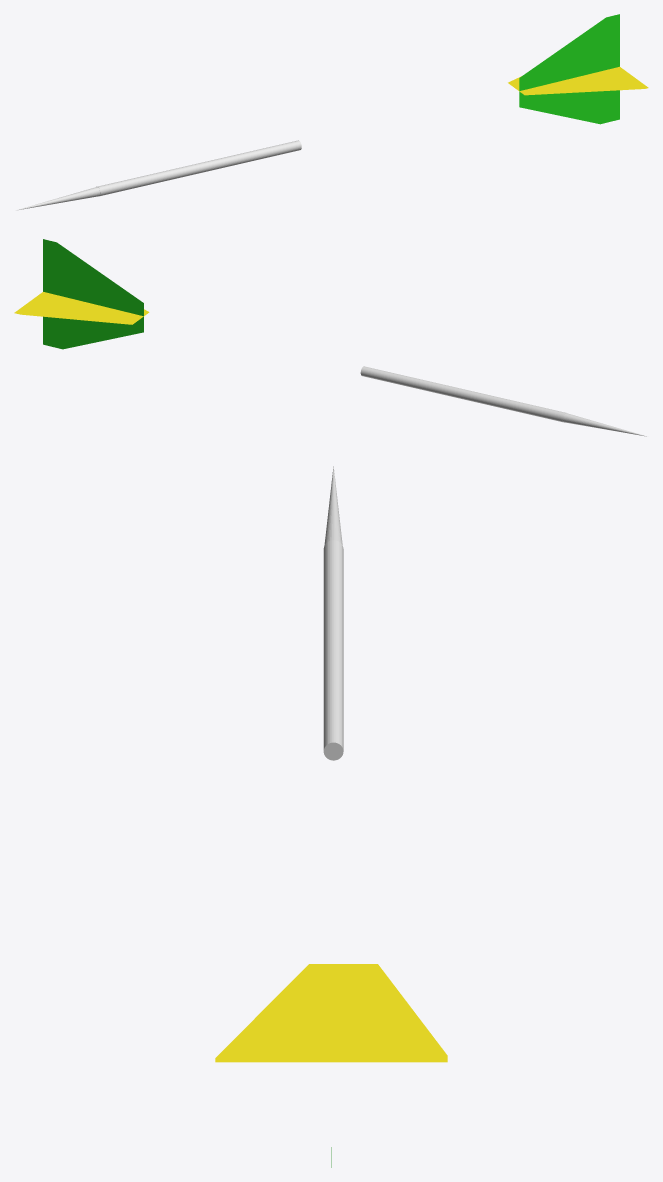
The model's file is throwing_dart.dae.
The picture shows the model from 3 angles, top to bottom: view 1: azimuth 30°, elevation 25°; view 2: azimuth 150°, elevation 25°; view 3: azimuth 270°, elevation 25°; orthographic projection. The views are drawn at different scales.
Visible parts, largest first — view 1: Cone; view 2: Cone; view 3: Cone.
Boxes of the visible parts, x1,y1,x2,y2 form: Cone: (15, 14, 648, 210); Cone: (14, 239, 646, 436); Cone: (215, 466, 447, 1167).
Bounding box in the file's own units: 12.02 × 2 × 2.
